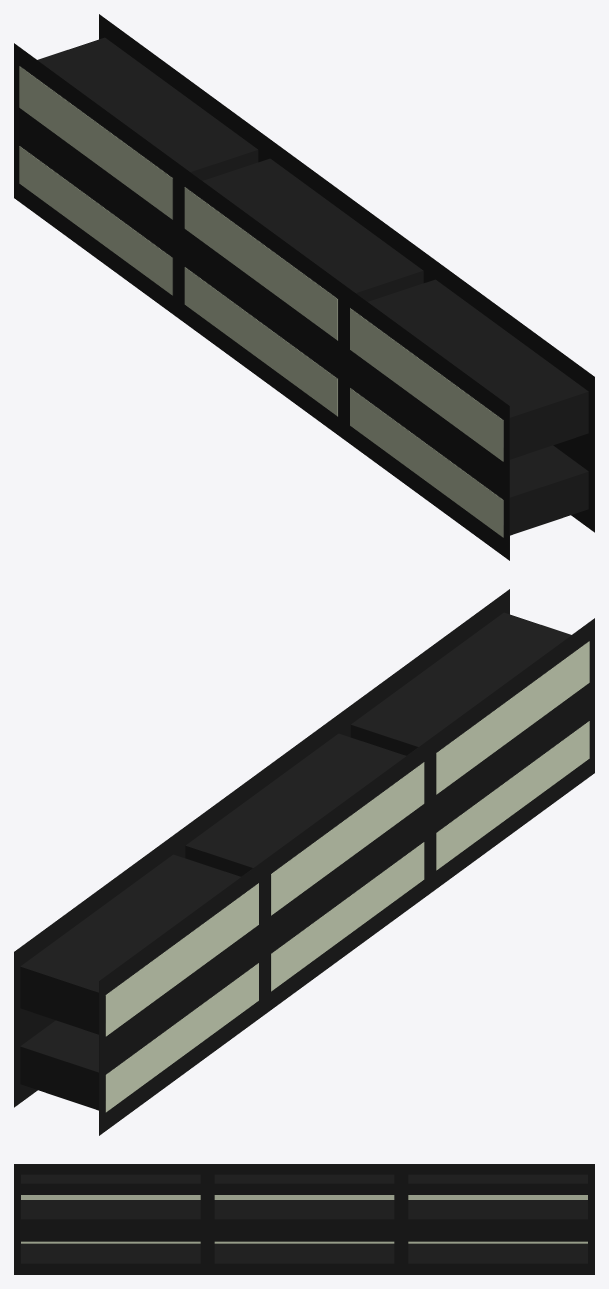
The model's file is MESH_FINESTRE_DA_3_TEAM.fbx.
The picture shows the model from 3 angles, top to bottom: view 1: azimuth 30°, elevation 25°; view 2: azimuth 150°, elevation 25°; view 3: azimuth 270°, elevation 25°; orthographic projection. The views are drawn at different scales.
Visible parts, largest first — view 1: Plane.034, Plane.037, Plane.036; view 2: Plane.034, Plane.037, Plane.036; view 3: Plane.034, Plane.037, Plane.036.
Part boxes in pixels (box(x1,y1,x2,y2)): Plane.034: box(14, 14, 594, 560); Plane.037: box(19, 66, 503, 461); Plane.036: box(19, 146, 503, 537); Plane.034: box(14, 589, 594, 1135); Plane.037: box(105, 641, 589, 1036); Plane.036: box(105, 721, 589, 1112); Plane.034: box(14, 1164, 594, 1274); Plane.037: box(21, 1195, 587, 1199); Plane.036: box(21, 1241, 587, 1243).
Bounding box in the file's own units: 0.3886 × 0.7062 × 3.89.
